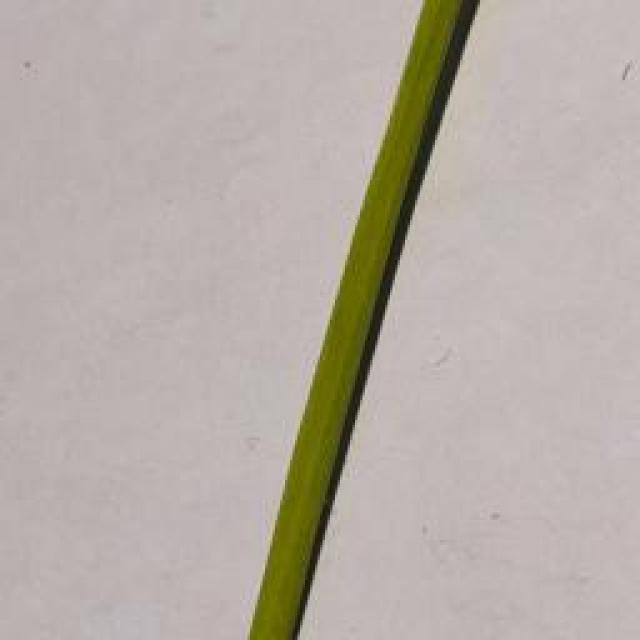Healthy-Plant: (252, 1, 460, 640)
